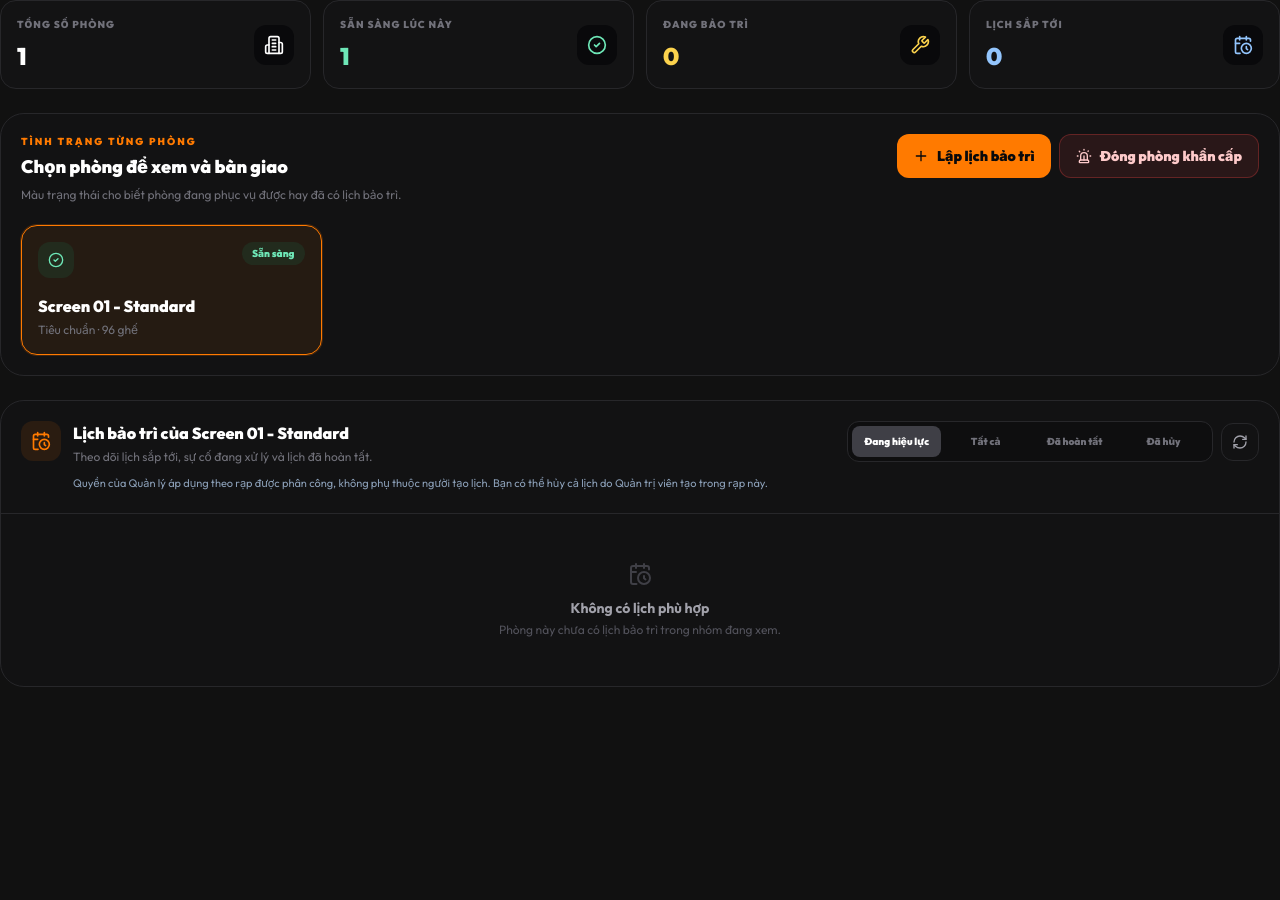
MaintenanceWorkspace › shows profile names for the creator, resolver and paid customer
This screenshot has width=1280, height=900.
Click the button "Đã hoàn tất": (1075, 442) [1030,426,1119,457]
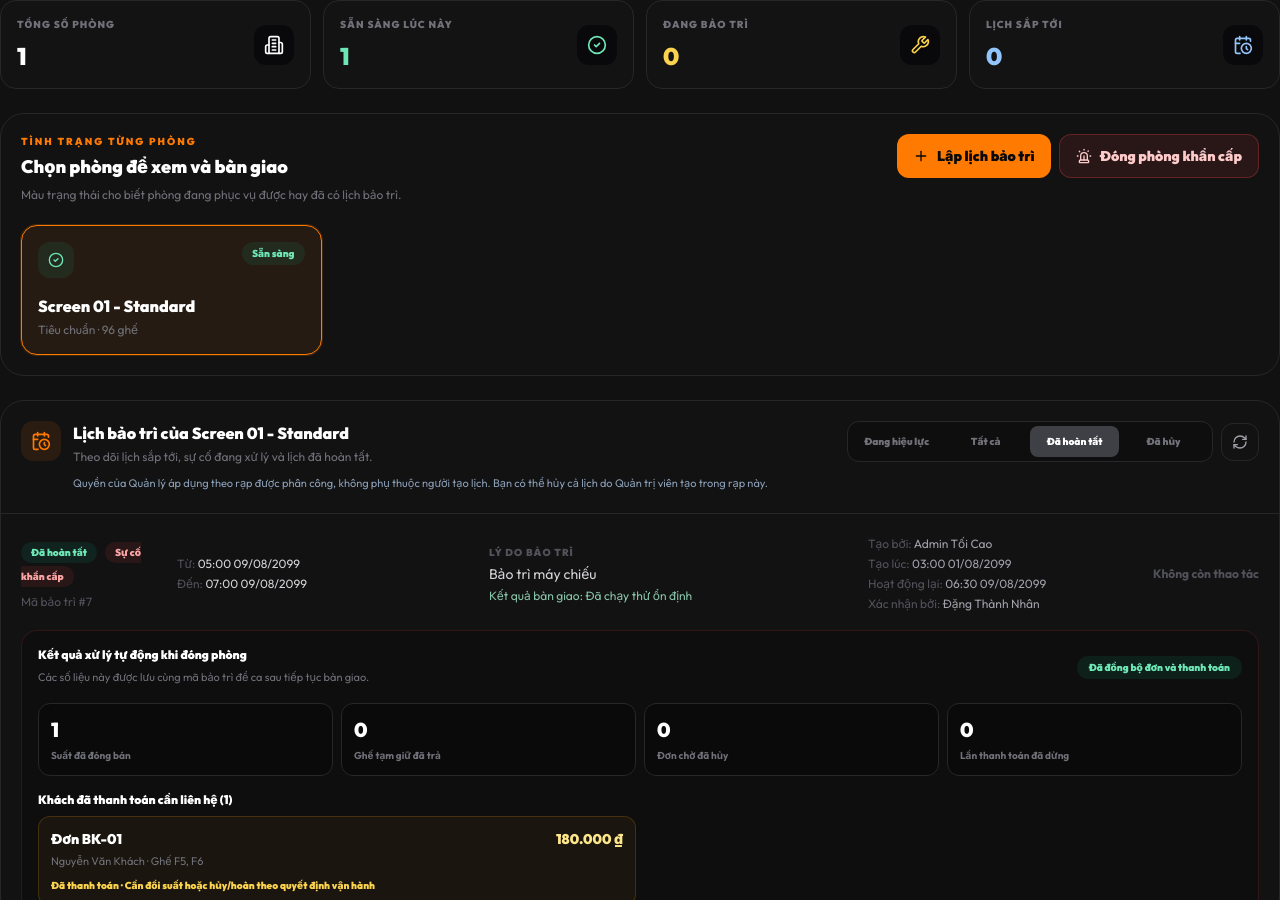
Check: the text "Tạo bởi: Admin Tối Cao" is shown, box [868,536,992,551]
Check: the text "Xác nhận bởi: Đặng Thành Nhân" is shown, box [868,596,1040,611]
Check: the text "Nguyễn Văn Khách · Ghế F5, F6" is shown, box [51,853,204,870]
